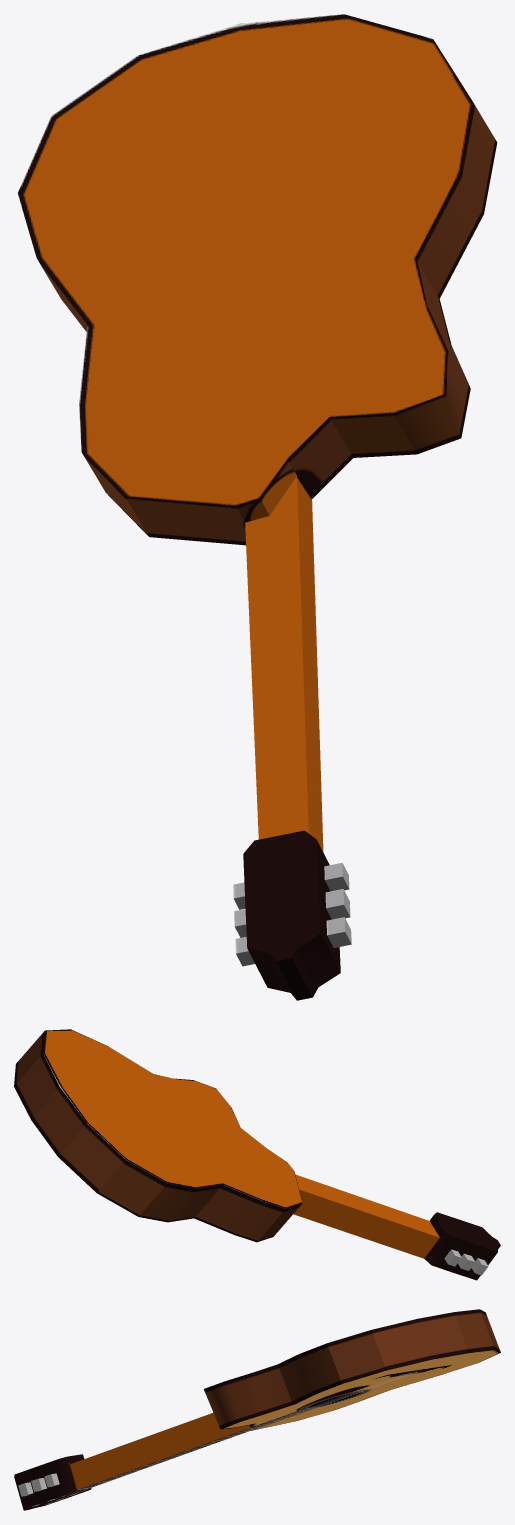
File: Guitarra3_000009.obj
The picture shows the model from 3 angles, top to bottom: view 1: azimuth 30°, elevation 25°; view 2: azimuth 150°, elevation 25°; view 3: azimuth 270°, elevation 25°; orthographic projection. The views are drawn at different scales.
Parts seen in each view (by area): view 1: Guitarra_2:pPlane4; view 2: Guitarra_2:pPlane4; view 3: Guitarra_2:pPlane4.
Boxes of the visible parts, x1=… form: Guitarra_2:pPlane4: x1=17, y1=14, x2=497, y2=1000; Guitarra_2:pPlane4: x1=14, y1=1029, x2=500, y2=1280; Guitarra_2:pPlane4: x1=14, y1=1309, x2=500, y2=1510.
Bounding box in the file's own units: 7.09 × 7.19 × 10.66.
